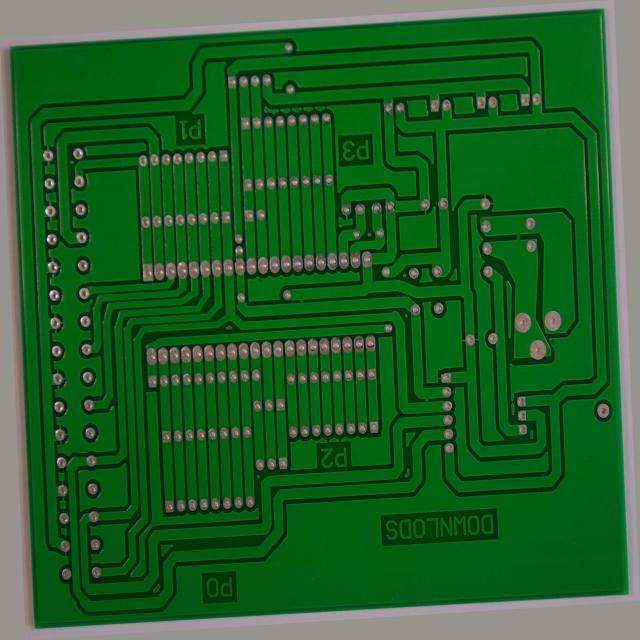short: (520, 229, 542, 260), (291, 283, 312, 311), (420, 398, 438, 425)
